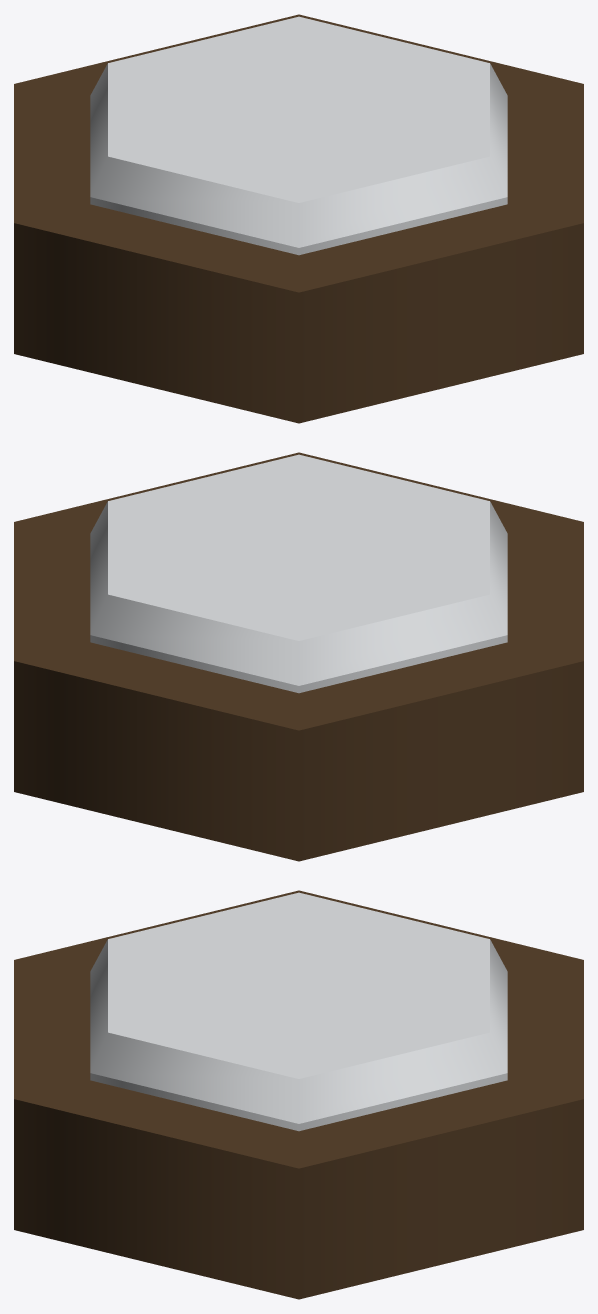
The model's file is rd1_thruster_rr.obj.
The picture shows the model from 3 angles, top to bottom: view 1: azimuth 30°, elevation 25°; view 2: azimuth 150°, elevation 25°; view 3: azimuth 270°, elevation 25°; orthographic projection.
Visible parts, largest first — view 1: rd1_thruster_rr; view 2: rd1_thruster_rr; view 3: rd1_thruster_rr.
Boxes of the visible parts, x1,y1,x2,y2 form: rd1_thruster_rr: (14,14,583,423); rd1_thruster_rr: (14,452,583,861); rd1_thruster_rr: (14,890,583,1299).
Size of the model in its own units: 0.164 by 0.06 by 0.142.
